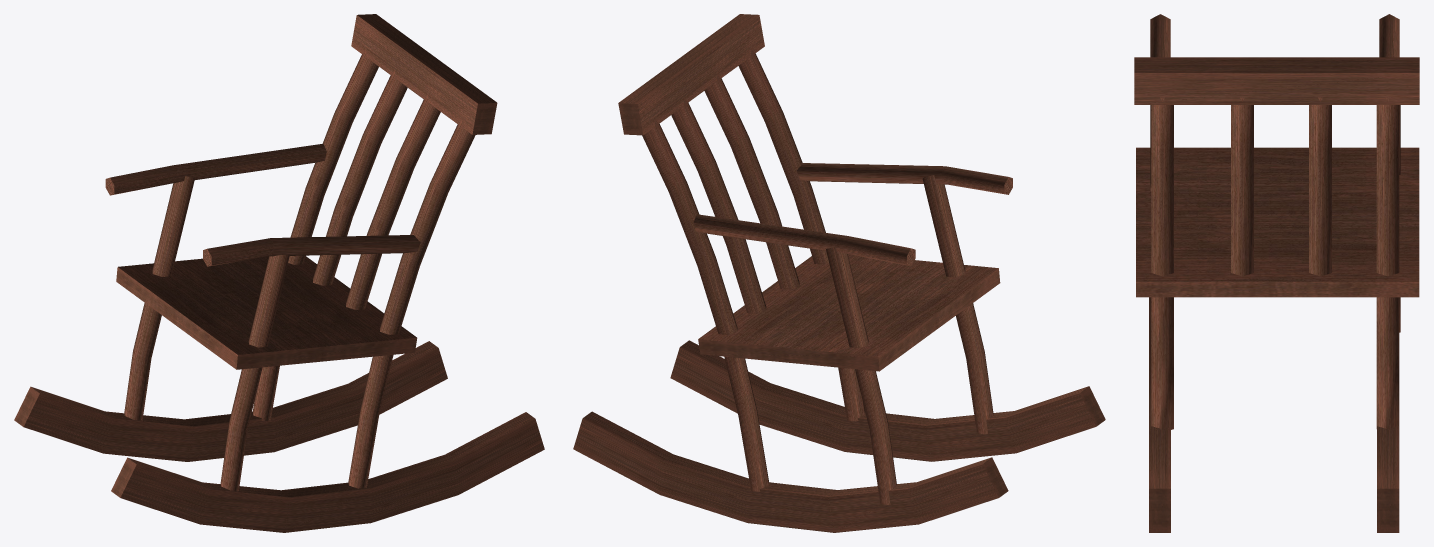
Rendered from Chair.fbx.
3 renders of one model, left to right at view 1: azimuth 30°, elevation 25°; view 2: azimuth 150°, elevation 25°; view 3: azimuth 270°, elevation 25°, orthographic. The views are drawn at different scales.
Parts seen in each view (by area): view 1: Gom_Cadeira1_00; view 2: Gom_Cadeira1_00; view 3: Gom_Cadeira1_00.
Part boxes in pixels (x1,y1,x2,y2): Gom_Cadeira1_00: [14, 14, 544, 532]; Gom_Cadeira1_00: [573, 14, 1105, 532]; Gom_Cadeira1_00: [1134, 14, 1419, 532].
Bounding box in the file's own units: 1.44 × 1.3 × 0.7143.
